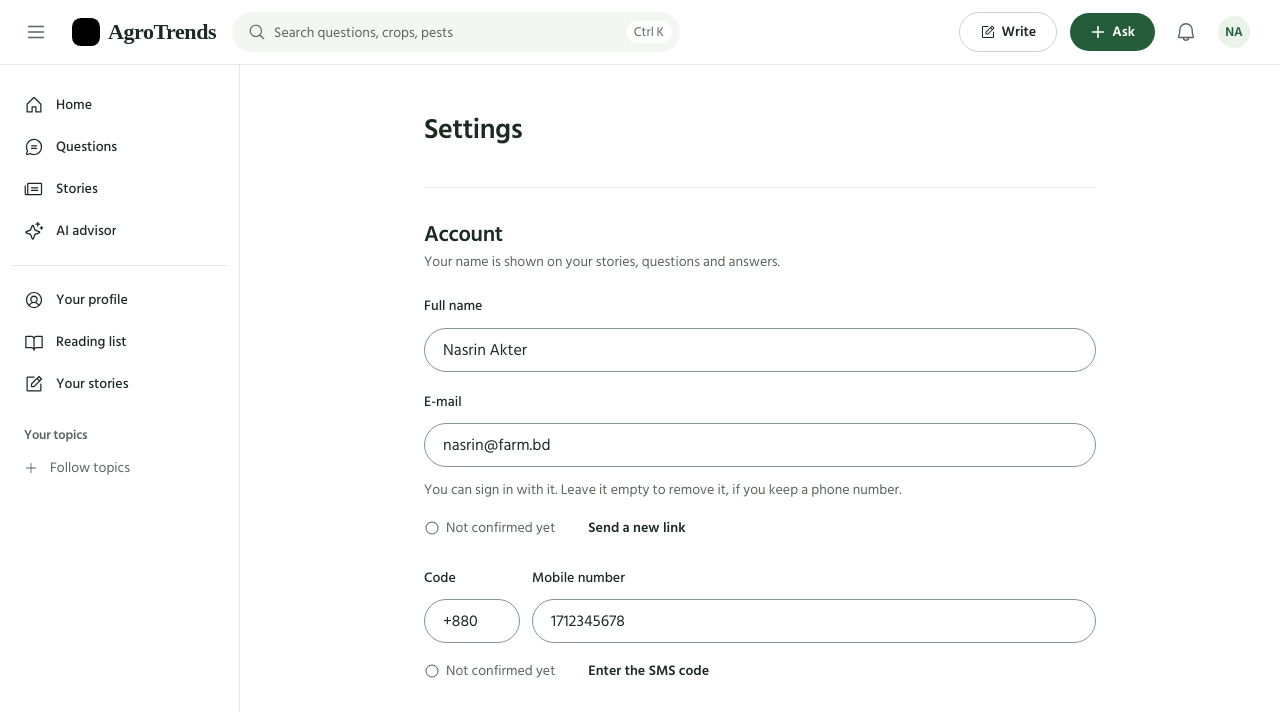
saving a new name keeps the reader signed in and updates the menu
The image size is (1280, 712).
Expected: the heading "Settings" is shown, [424,107,522,152]
Replace the text in the field labelled "Full name" with "Nasrin Sultana" at (760, 350), box [424,328,1096,372]
(page scrolled)
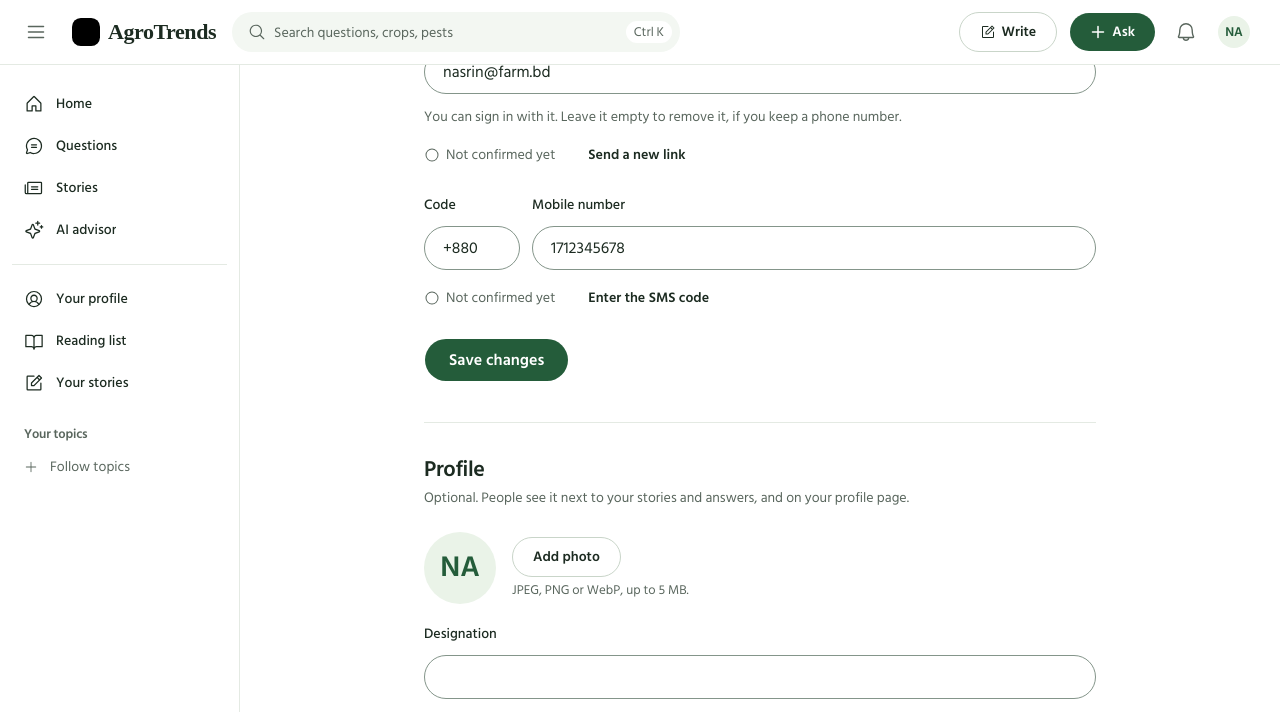
Click the button "Save changes".
click(497, 360)  # box [424,338,569,382]
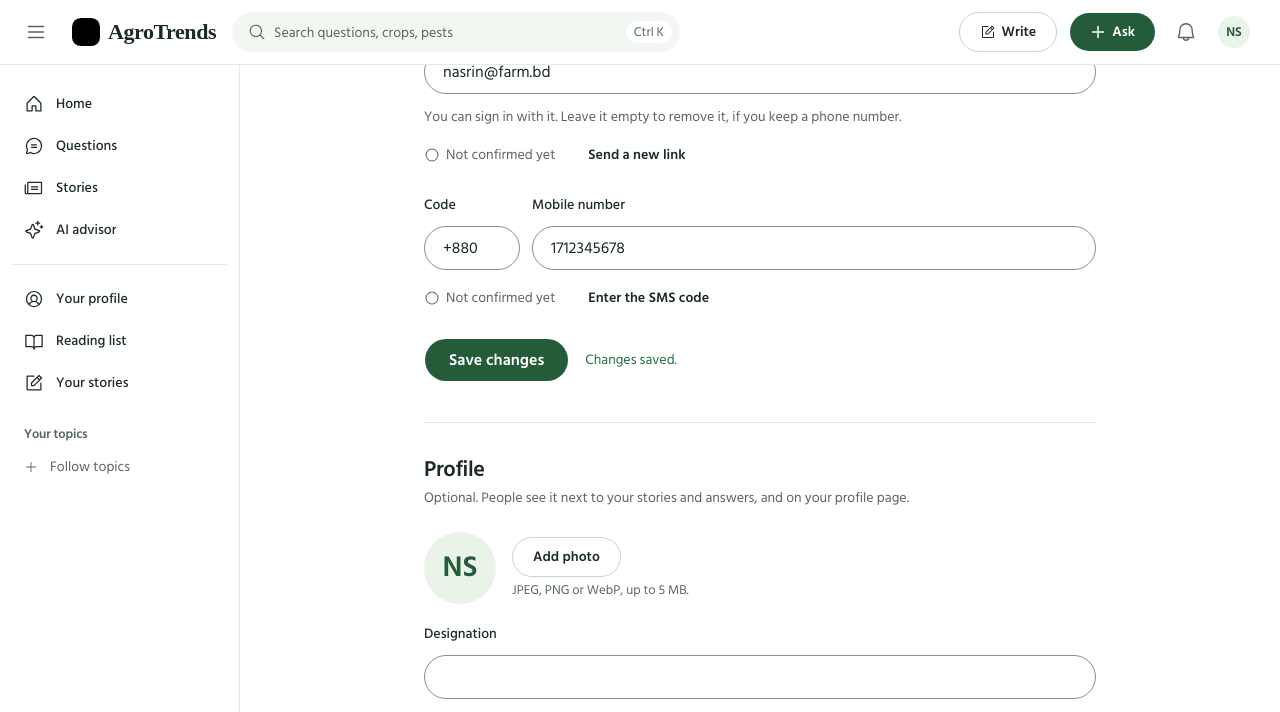
Now the text "Changes saved." is shown, box [585,350,677,370]
Click the button named "Account".
click(1234, 32)  # box [1212,10,1256,54]
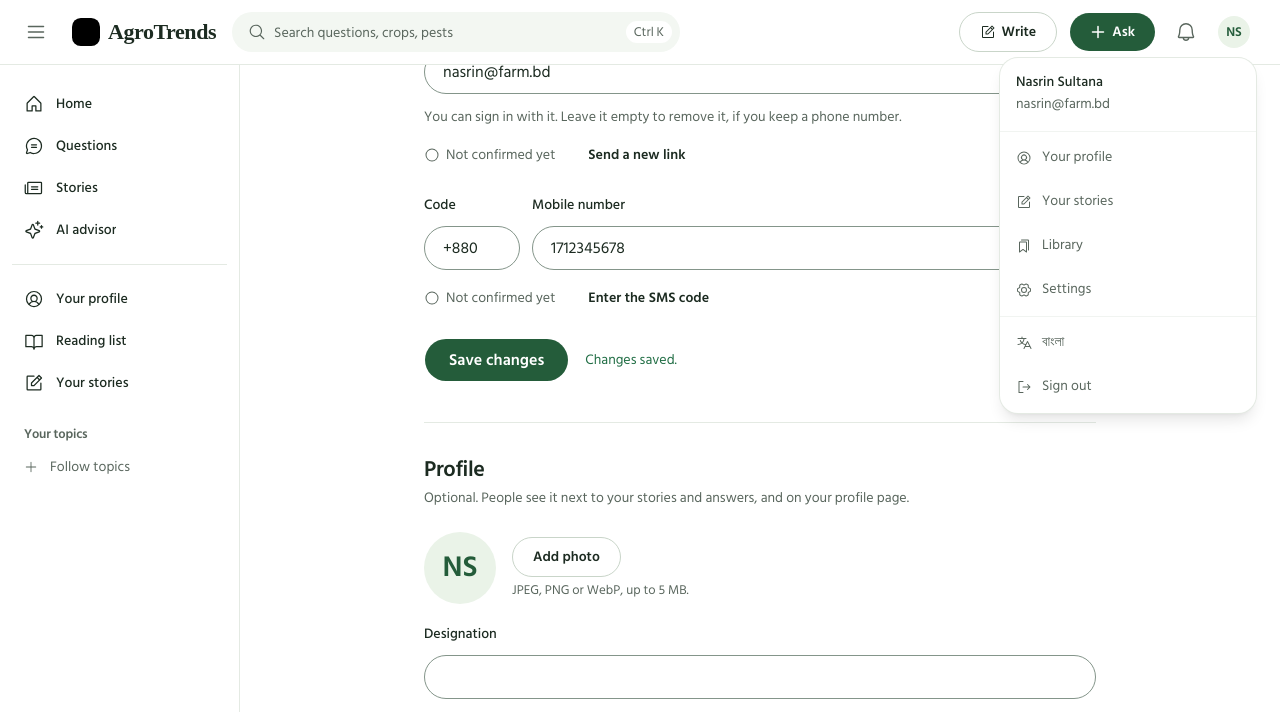
Now the text "Nasrin Sultana" is shown, box [1016,70,1103,93]
